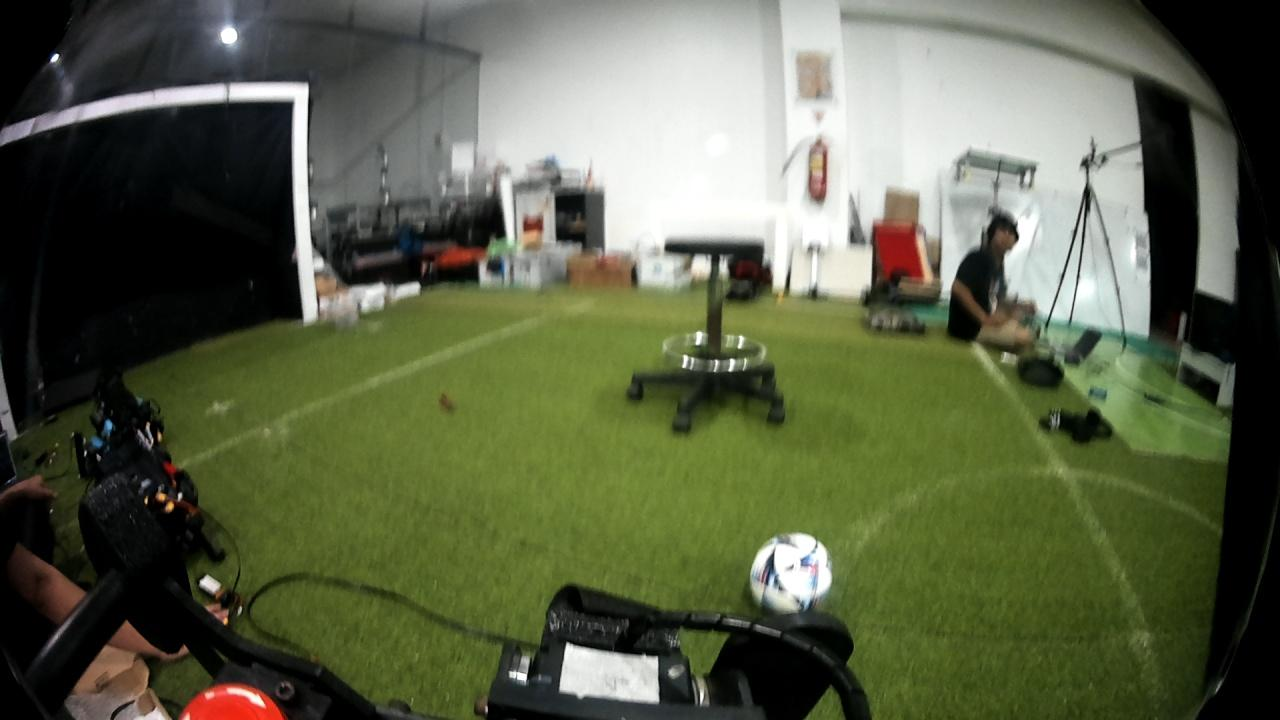ball: (747, 526, 835, 619)
